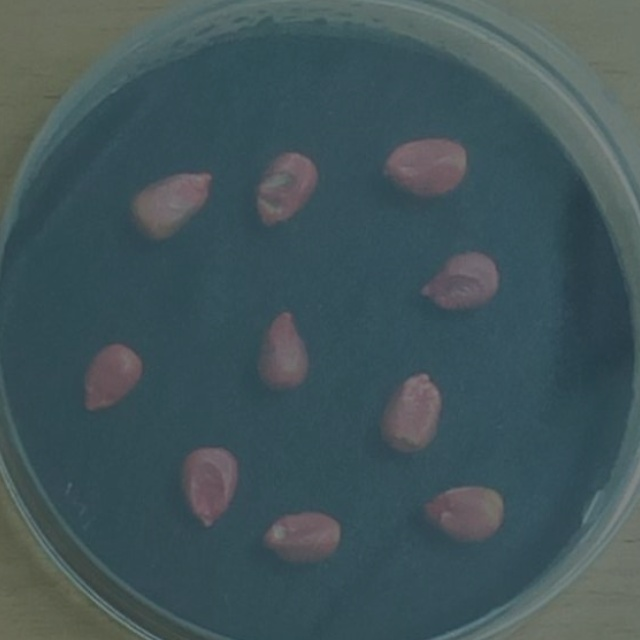Zea mays: (121, 162, 223, 252), (408, 242, 507, 321), (370, 364, 448, 463), (413, 477, 512, 554), (171, 439, 248, 538), (247, 145, 326, 241), (372, 132, 475, 205), (247, 300, 317, 400), (251, 505, 347, 574), (73, 338, 148, 423)
